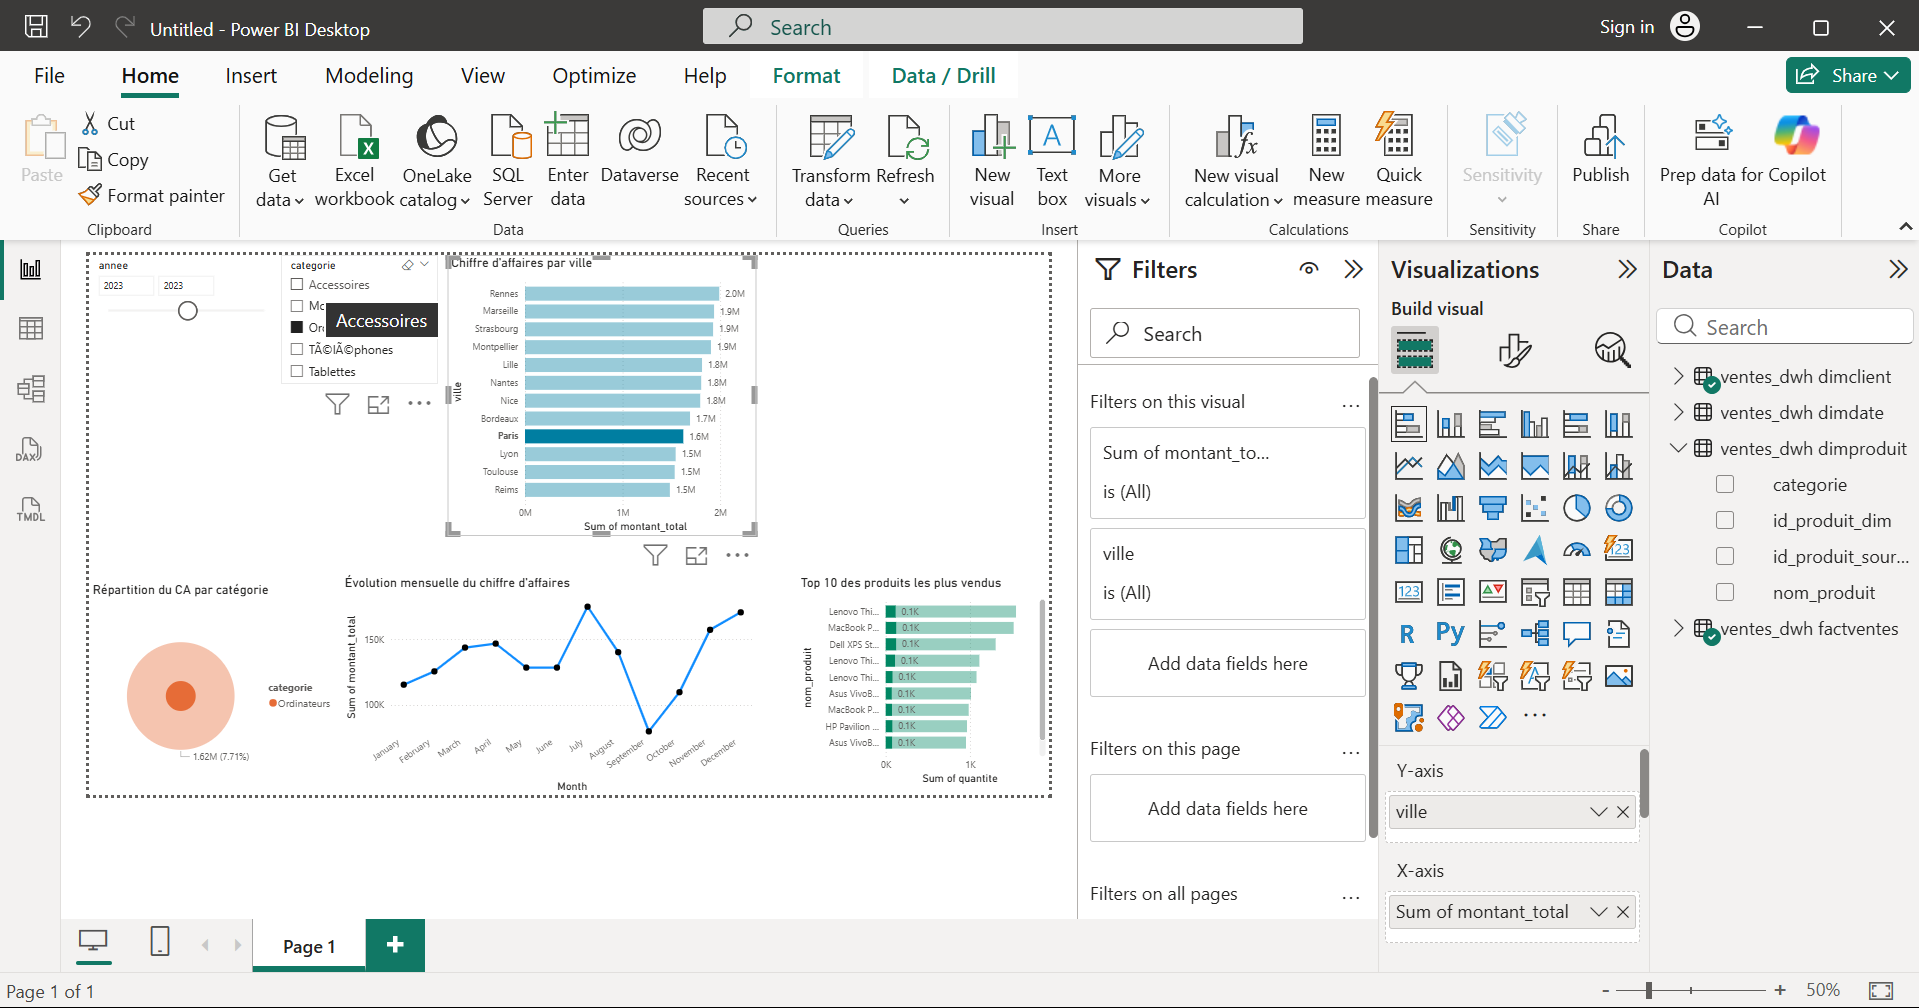

The dashboard page shown, as its layout file describes it:
{"tool":"powerbi","page":{"name":"Page 1","canvas":[1280,720],"ordinal":0},"visuals":[{"type":"barChart","title":"Chiffre d''affaires par ville","fields":{"Category":["ventes_dwh dimclient.ville"],"Y":["Sum(ventes_dwh factventes.montant_total)"]},"box":[316,66,458,342],"z":0},{"type":"pieChart","title":"Répartition du CA par catégorie","fields":{"Category":["ventes_dwh dimproduit.categorie"],"Y":["Sum(ventes_dwh factventes.montant_total)"]},"box":[326,432,336,288],"z":1000},{"type":"lineChart","title":"Évolution mensuelle du chiffre d''affaires","fields":{"Y":["Sum(ventes_dwh factventes.montant_total)"],"Category":["ventes_dwh dimdate.date_complete.Variation.Date Hierarchy.Month"]},"box":[724,432,530,288],"z":2000},{"type":"clusteredBarChart","title":"Top 10 des produits les plus vendus","fields":{"Category":["ventes_dwh dimproduit.nom_produit"],"Y":["Sum(ventes_dwh factventes.quantite)"]},"box":[800,66,432,342],"z":3000},{"type":"slicer","fields":{"Values":["ventes_dwh dimdate.annee"]},"box":[0,164,256,96],"z":4000},{"type":"slicer","fields":{"Values":["ventes_dwh dimproduit.categorie"]},"box":[0,260,210,172],"z":5000},{"type":"card","fields":{"Values":["ventes_dwh factventes.CA Total"]},"box":[0,0,112,72],"z":6000},{"type":"card","fields":{"Values":["ventes_dwh factventes.Panier Moyen"]},"box":[128,66,112,80],"z":7000},{"type":"card","fields":{"Values":["ventes_dwh factventes.Nombre de Ventes"]},"box":[112,0,154,72],"z":8000},{"type":"card","fields":{"Values":["ventes_dwh factventes.Clients Uniques"]},"box":[0,72,128,74],"z":9000},{"type":"textbox","box":[336,0,652,48],"z":10000}]}

Visuals, with their boxes on the page's 1280x720 design canvas (x1, y1, x2, y2). These are canvas units, not pixel positions in the 1919x1008 screenshot, which may show the page scaled, cropped or inside an application window:
"Chiffre d''affaires par ville" barChart: l=316, t=66, r=774, b=408
"Répartition du CA par catégorie" pieChart: l=326, t=432, r=662, b=720
"Évolution mensuelle du chiffre d''affaires" lineChart: l=724, t=432, r=1254, b=720
"Top 10 des produits les plus vendus" clusteredBarChart: l=800, t=66, r=1232, b=408
slicer - ventes_dwh dimdate.annee: l=0, t=164, r=256, b=260
slicer - ventes_dwh dimproduit.categorie: l=0, t=260, r=210, b=432
card - ventes_dwh factventes.CA Total: l=0, t=0, r=112, b=72
card - ventes_dwh factventes.Panier Moyen: l=128, t=66, r=240, b=146
card - ventes_dwh factventes.Nombre de Ventes: l=112, t=0, r=266, b=72
card - ventes_dwh factventes.Clients Uniques: l=0, t=72, r=128, b=146
textbox: l=336, t=0, r=988, b=48
